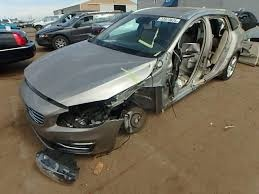Broken-glass: (59, 100, 110, 131)
Scratch: (108, 80, 145, 108)
Smashed: (155, 13, 241, 112)
